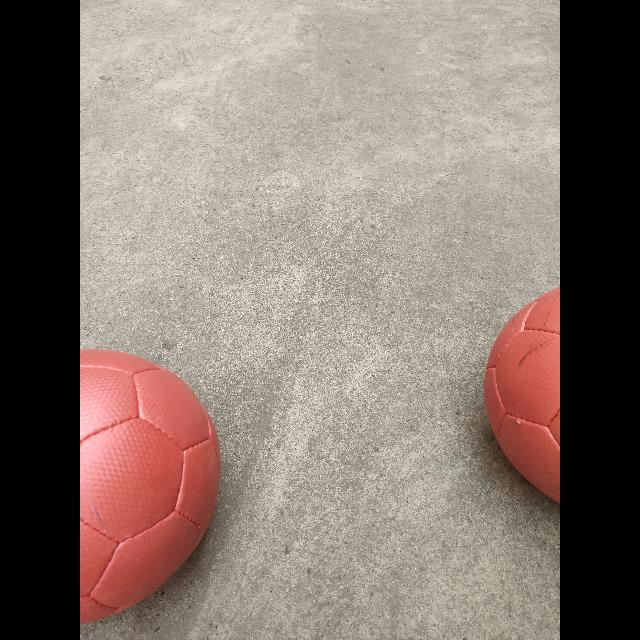R: (80, 350, 220, 624), (483, 286, 559, 508)
